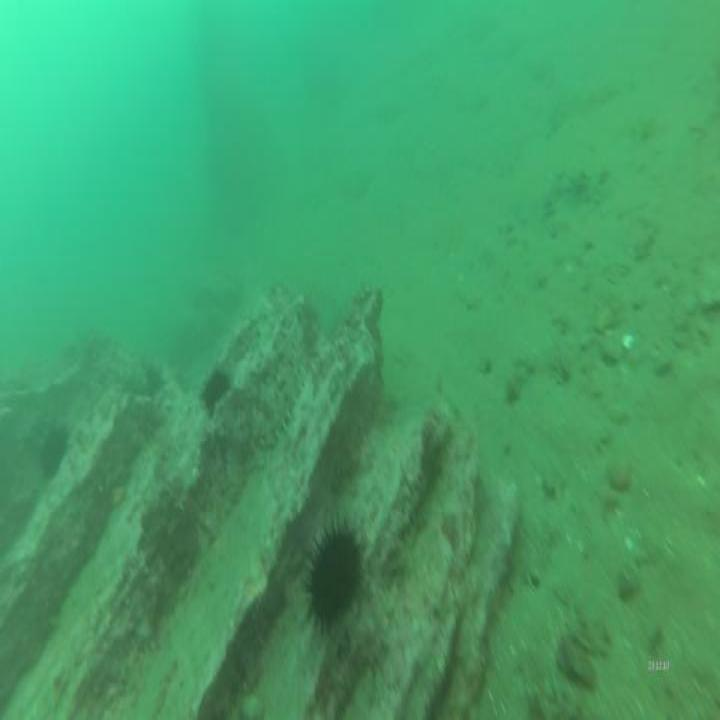echinus: (302, 516, 366, 638), (33, 420, 72, 485), (197, 363, 230, 416)
